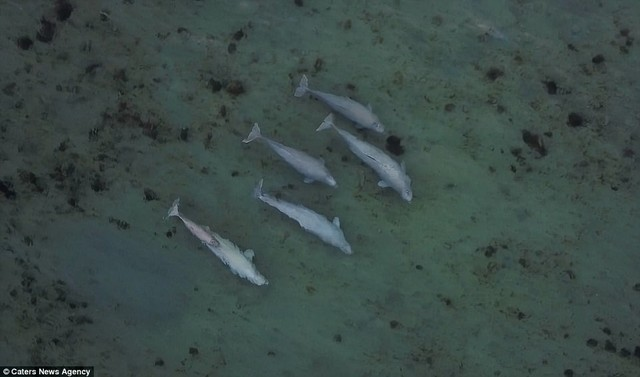whale: (160, 195, 273, 296), (311, 109, 421, 205), (242, 177, 358, 260), (239, 118, 342, 189), (288, 73, 390, 135)
